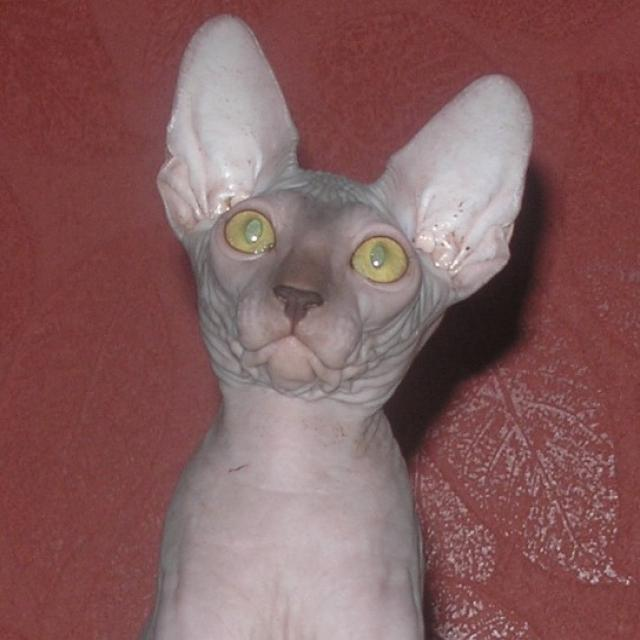Sphynx: (147, 0, 542, 403)
